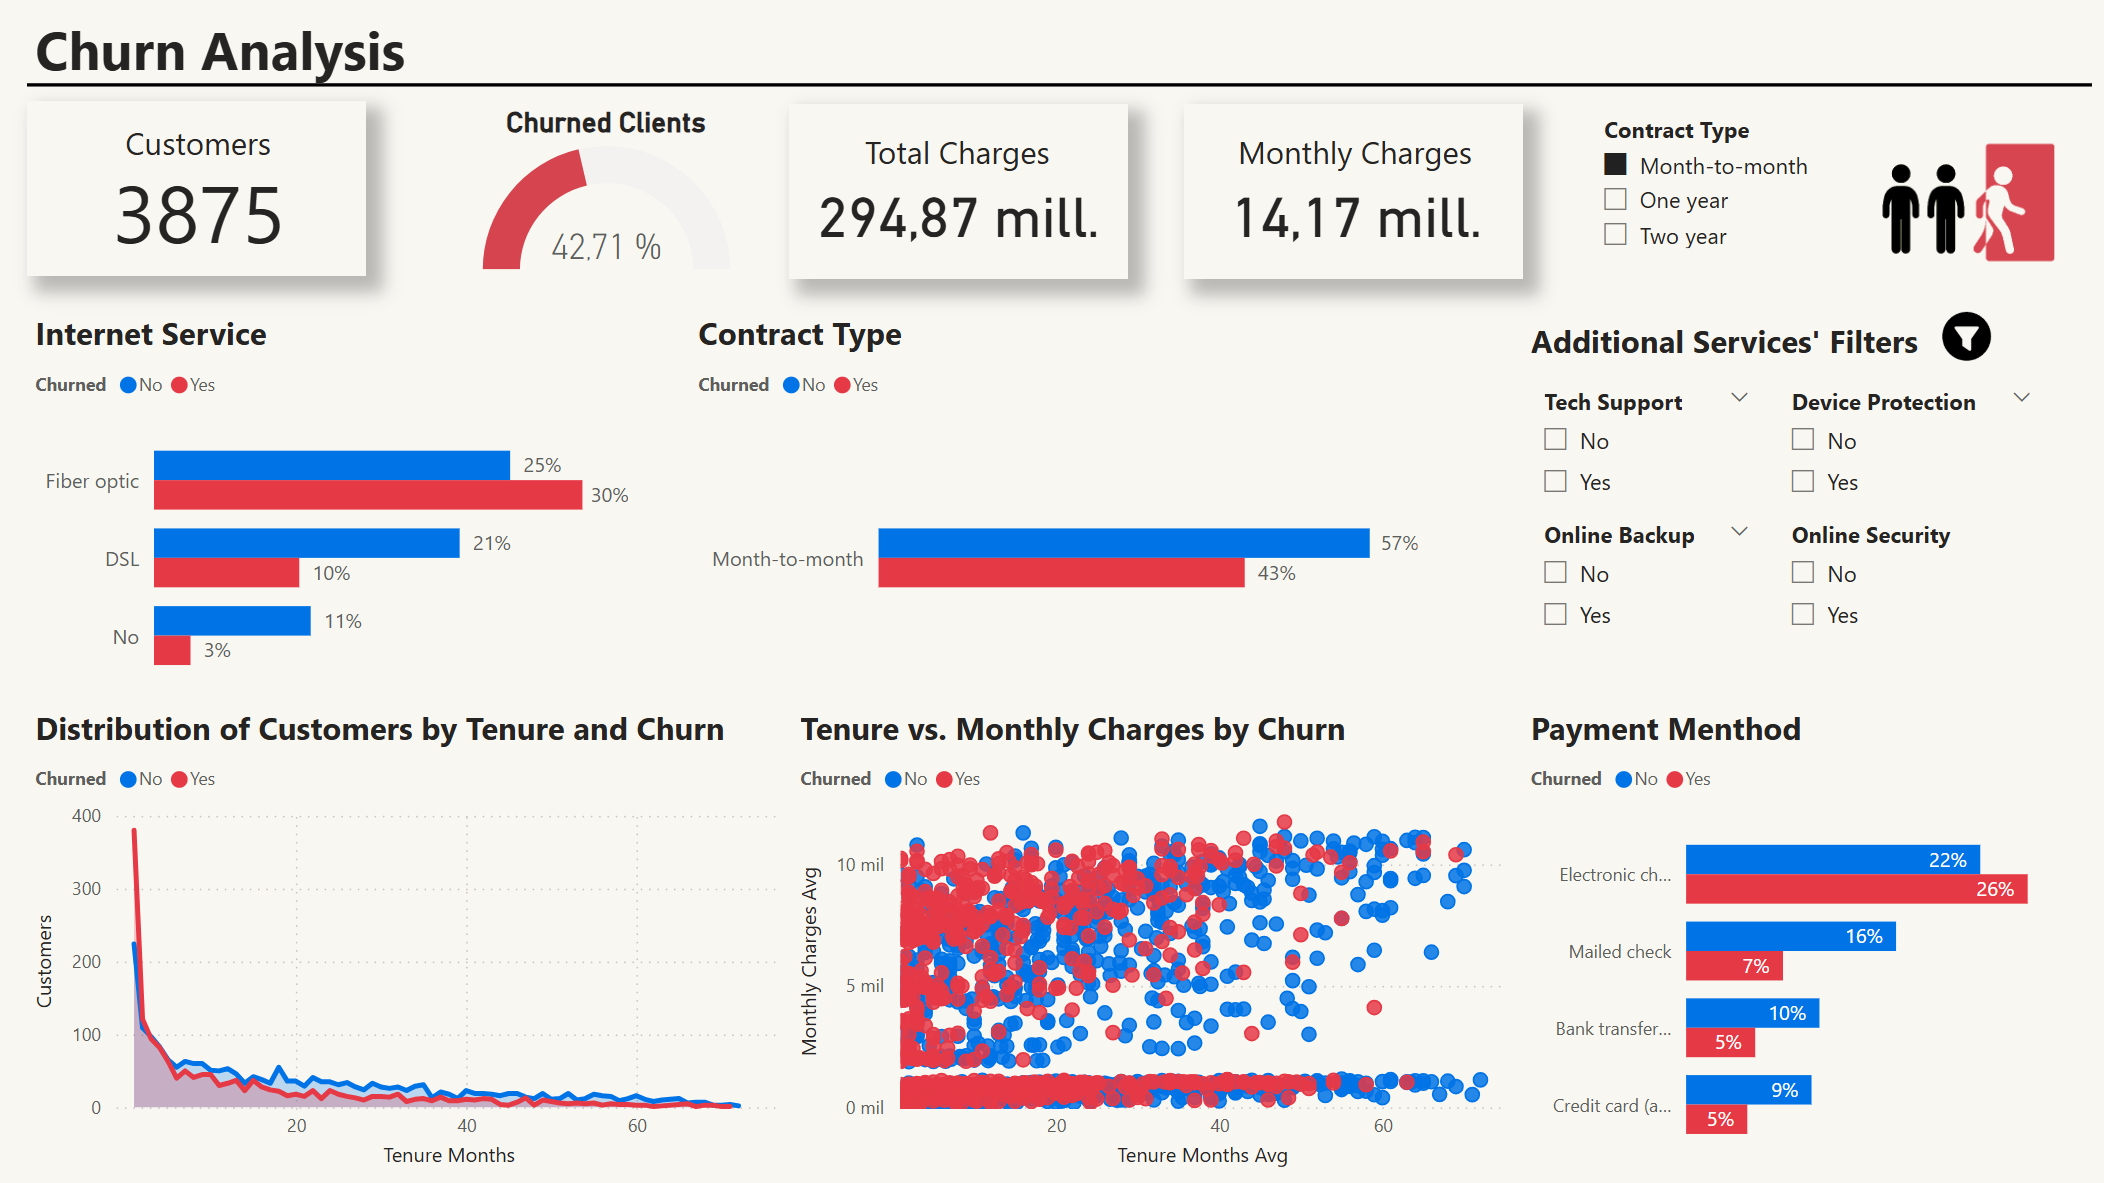

What the dashboard file says about the page in this screenshot:
{"tool":"powerbi","page":{"name":"Churn Analysis","canvas":[1280,720],"ordinal":0},"visuals":[{"type":"card","title":"Customers","fields":{"Values":["CountNonNull(clean_customerChurn.Churn Label)"]},"box":[50,78.8,146.2,81.2],"z":0},{"type":"gauge","title":"Churned Clients","fields":{"Y":["clean_customerChurn.PctChurned"]},"box":[257.5,68.8,220,103.8],"z":1000},{"type":"clusteredBarChart","title":"Internet Service","fields":{"Y":["CountNonNull(clean_customerChurn.Internet Service)"],"Series":["clean_customerChurn.Churn Label"],"Category":["clean_customerChurn.Internet Service"]},"box":[20,192.5,366.2,237.5],"z":2000},{"type":"clusteredBarChart","title":"Contract Type","fields":{"Category":["clean_customerChurn.Contract"],"Y":["Divide(CountNonNull(clean_customerChurn.Contract), ScopedEval(CountNonNull(clean_customerChurn.Contract), []))"],"Series":["clean_customerChurn.Churn Label"]},"box":[418.8,192.5,442.5,237.5],"z":3000},{"type":"clusteredBarChart","title":"Payment Menthod","fields":{"Category":["clean_customerChurn.Payment Method"],"Y":["CountNonNull(clean_customerChurn.Payment Method)"],"Series":["clean_customerChurn.Churn Label"]},"box":[918.9,429.9,339.5,281.6],"z":4000},{"type":"areaChart","title":"Distribution of Customers by Tenure and Churn","fields":{"Category":["clean_customerChurn.Tenure Months"],"Series":["clean_customerChurn.Churn Label"],"Y":["CountNonNull(clean_customerChurn.Churn Label)"]},"box":[19.7,429.9,457.7,281.6],"z":5000},{"type":"scatterChart","title":"Tenure vs. Monthly Charges by Churn","fields":{"Y":["Avg(clean_customerChurn.Monthly Charges)"],"X":["Avg(clean_customerChurn.Tenure Months)"],"Series":["clean_customerChurn.Churn Label"],"Category":["clean_customerChurn.Monthly Charges"]},"box":[479.7,429.9,439.2,281.6],"z":6000},{"type":"slicer","fields":{"Values":["clean_customerChurn.Contract"]},"box":[955,68.8,166.2,105],"z":7000},{"type":"card","title":"Total Charges","fields":{"Values":["Sum(clean_customerChurn.Total Charges)"]},"box":[480,83.8,198.8,73.8],"z":8000},{"type":"card","title":"Monthly Charges","fields":{"Values":["Sum(clean_customerChurn.Monthly Charges)"]},"box":[732.5,83.8,170,73.8],"z":9000},{"type":"textbox","box":[19.7,7,286.2,56.8],"z":10000},{"type":"shape","box":[20,50,1241.1,13.7],"z":11000},{"type":"shape","box":[20,66.2,203.8,105],"z":12000},{"type":"shape","box":[477.5,67.5,203.8,105],"z":13000},{"type":"shape","box":[715,67.5,203.8,105],"z":14000},{"type":"slicer","fields":{"Values":["clean_customerChurn.Tech Support"]},"box":[918.9,231.7,148.3,80],"z":16000},{"type":"slicer","fields":{"Values":["clean_customerChurn.Device Protection"]},"box":[1067.2,231.7,169.2,80],"z":17000},{"type":"slicer","fields":{"Values":["clean_customerChurn.Online Backup"]},"box":[918.9,311.7,148.3,80],"z":18000},{"type":"slicer","fields":{"Values":["clean_customerChurn.Online Security"]},"box":[1067.2,311.7,169.2,80],"z":19000},{"type":"textbox","box":[918.9,192.3,253.8,34.8],"z":20000},{"type":"image","box":[1163.4,187.7,45.2,39.4],"z":20001},{"type":"image","box":[1122.8,56.8,135.6,135.6],"z":20002}]}

Visuals, with their boxes in screenshot pixels (x1, y1, x2, y2), scaled from the page's 1280x720 canvas onto the 2104x1183 screenshot:
"Customers" card: [82, 129, 323, 263]
"Churned Clients" gauge: [423, 113, 785, 284]
"Internet Service" clusteredBarChart: [33, 316, 635, 707]
"Contract Type" clusteredBarChart: [688, 316, 1416, 707]
"Payment Menthod" clusteredBarChart: [1510, 706, 2068, 1169]
"Distribution of Customers by Tenure and Churn" areaChart: [32, 706, 785, 1169]
"Tenure vs. Monthly Charges by Churn" scatterChart: [789, 706, 1510, 1169]
slicer - clean_customerChurn.Contract: [1570, 113, 1843, 286]
"Total Charges" card: [789, 138, 1116, 259]
"Monthly Charges" card: [1204, 138, 1483, 259]
textbox: [32, 12, 503, 105]
shape: [33, 82, 2073, 105]
shape: [33, 109, 368, 281]
shape: [785, 111, 1120, 283]
shape: [1175, 111, 1510, 283]
slicer - clean_customerChurn.Tech Support: [1510, 381, 1754, 512]
slicer - clean_customerChurn.Device Protection: [1754, 381, 2032, 512]
slicer - clean_customerChurn.Online Backup: [1510, 512, 1754, 644]
slicer - clean_customerChurn.Online Security: [1754, 512, 2032, 644]
textbox: [1510, 316, 1928, 373]
image: [1912, 308, 1987, 373]
image: [1846, 93, 2068, 316]
